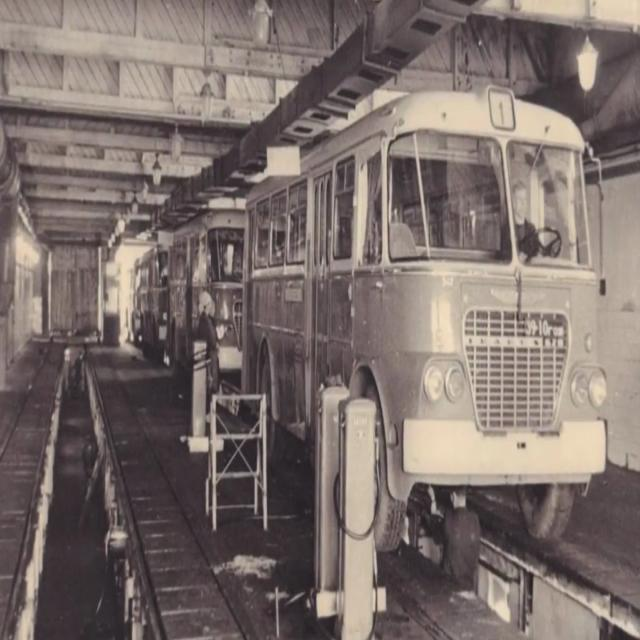bus: (245, 73, 612, 583), (167, 208, 244, 388)
